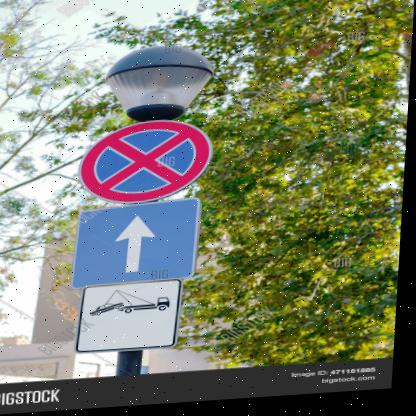No stopping: (80, 121, 219, 207)
